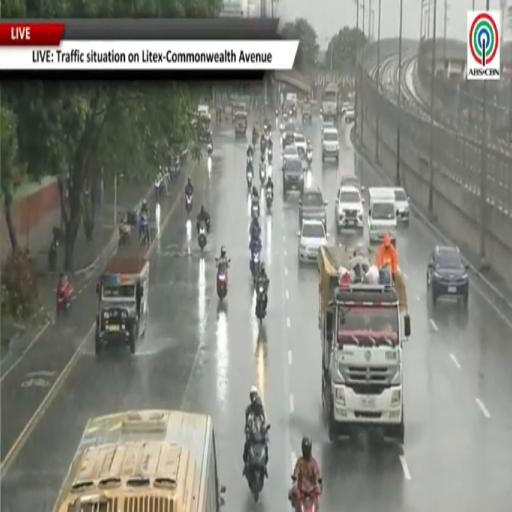bus: (54, 410, 225, 511)
car: (427, 245, 469, 306), (298, 220, 327, 263), (336, 185, 363, 230), (299, 187, 327, 228), (283, 157, 303, 196), (322, 127, 339, 164), (394, 188, 410, 226), (340, 174, 365, 193), (283, 144, 299, 168), (294, 132, 307, 157), (282, 124, 294, 149), (302, 102, 312, 124), (322, 121, 335, 134), (197, 105, 210, 117), (345, 108, 355, 123), (341, 102, 350, 116)
jeepney: (235, 111, 247, 138)
motorcycle: (246, 425, 270, 502), (296, 479, 318, 511), (216, 259, 230, 300), (48, 228, 61, 271), (57, 281, 73, 314), (255, 280, 267, 323), (48, 238, 58, 271), (118, 222, 131, 247), (154, 174, 164, 202), (250, 251, 260, 279), (140, 215, 149, 245), (170, 156, 181, 178), (198, 222, 206, 250), (197, 216, 210, 233), (259, 162, 267, 186), (265, 187, 273, 209), (207, 142, 212, 173), (186, 195, 193, 217), (250, 226, 260, 241), (247, 167, 253, 190), (252, 201, 260, 218), (306, 151, 312, 168), (252, 131, 258, 146), (267, 148, 272, 164), (261, 139, 266, 154), (247, 154, 253, 166), (207, 142, 212, 156)
truck: (318, 246, 410, 443), (95, 250, 149, 355), (322, 84, 339, 122)
